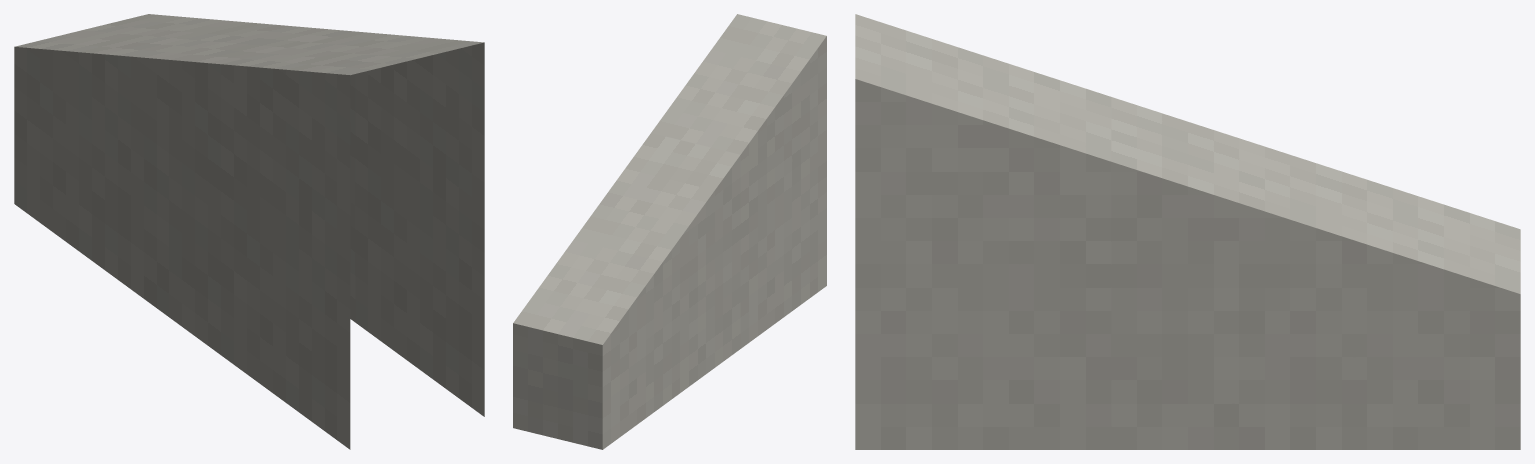
File: wing_upper.obj
3 views of the same model, side by side, from view 1: azimuth 30°, elevation 25°; view 2: azimuth 150°, elevation 25°; view 3: azimuth 270°, elevation 25° (orthographic). The views are drawn at different scales.
Parts seen in each view (by area): view 1: wing_upper; view 2: wing_upper; view 3: wing_upper.
Boxes of the visible parts, x1,y1,x2,y2 form: wing_upper: (14,14,484,449); wing_upper: (513,14,826,449); wing_upper: (855,14,1520,449).
Bounding box in the file's own units: 0.375 × 1 × 1.62.
